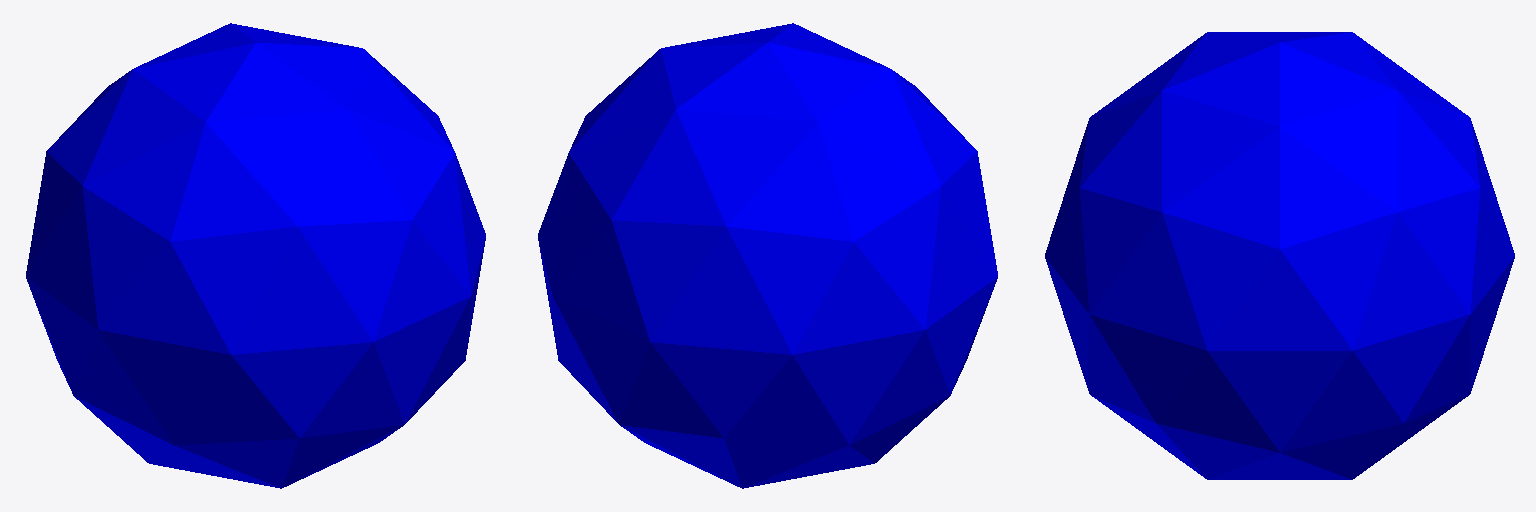
Rendered from bluemodel.obj.
The picture shows the model from 3 angles: view 1: azimuth 30°, elevation 25°; view 2: azimuth 150°, elevation 25°; view 3: azimuth 270°, elevation 25°; orthographic projection.
Visible parts, largest first — view 1: Icosphere; view 2: Icosphere; view 3: Icosphere.
Boxes of the visible parts, <box> form: Icosphere: <box>26,23,485,488</box>; Icosphere: <box>538,23,997,488</box>; Icosphere: <box>1045,32,1514,479</box>.
Bounding box in the file's own units: 1.9 × 2 × 2.